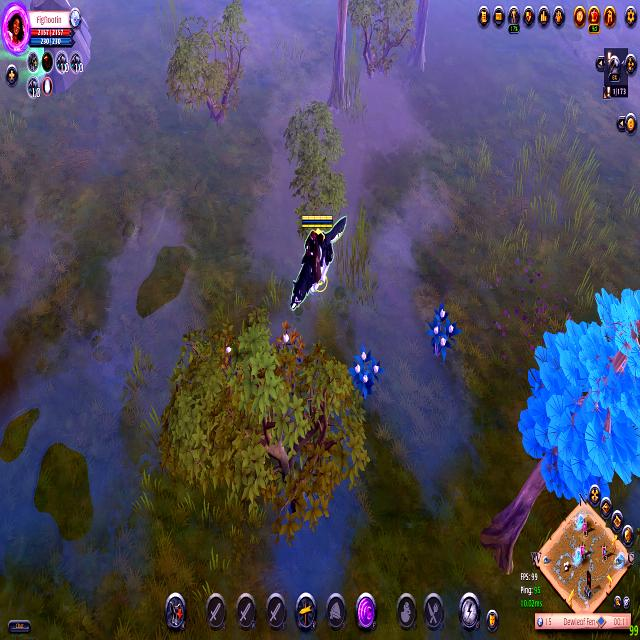hide: (343, 333, 385, 418), (268, 320, 309, 398), (423, 299, 462, 368), (214, 331, 247, 395)
wisp caged: (476, 279, 640, 595), (324, 0, 354, 124), (406, 0, 434, 84)
